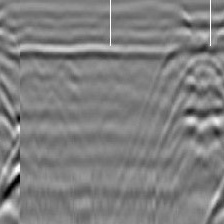Utility: (165, 50, 224, 160)
